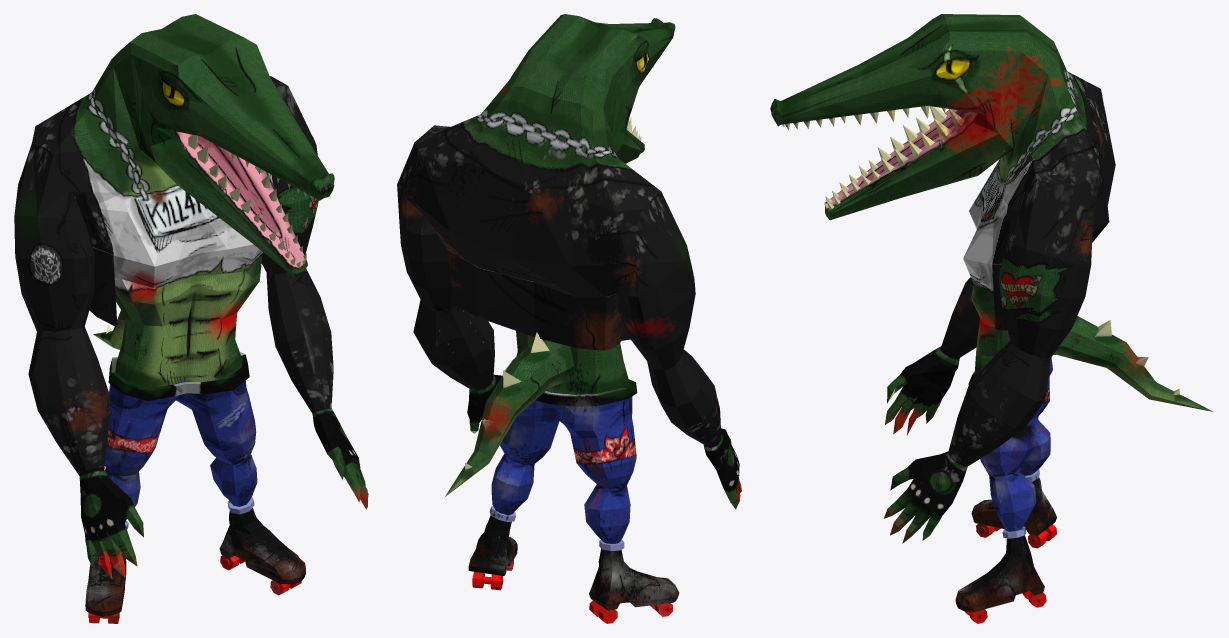
Rendered from cocodrilaBonesSelect_000087.obj.
3 renders of one model, left to right at view 1: azimuth 30°, elevation 25°; view 2: azimuth 150°, elevation 25°; view 3: azimuth 270°, elevation 25°, orthographic. The views are drawn at different scales.
Parts seen in each view (by area): view 1: Crocodile.002_Cylinder.002; view 2: Crocodile.002_Cylinder.002; view 3: Crocodile.002_Cylinder.002.
Part boxes in pixels (x1,y1,x2,y2): Crocodile.002_Cylinder.002: [14, 14, 368, 623]; Crocodile.002_Cylinder.002: [397, 14, 741, 623]; Crocodile.002_Cylinder.002: [770, 14, 1213, 623].
Bounding box in the file's own units: 3.73 × 6.76 × 4.92.
